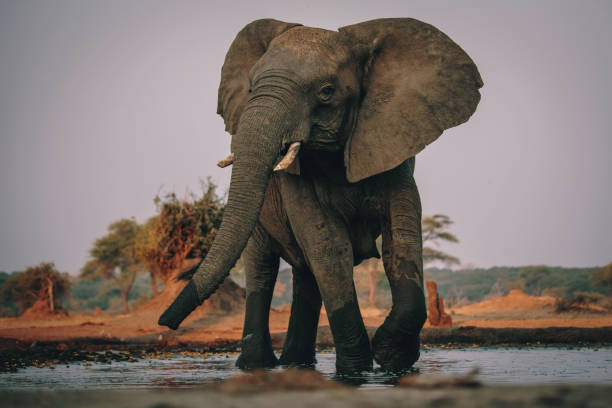africanelephant: (214, 36, 362, 196)
